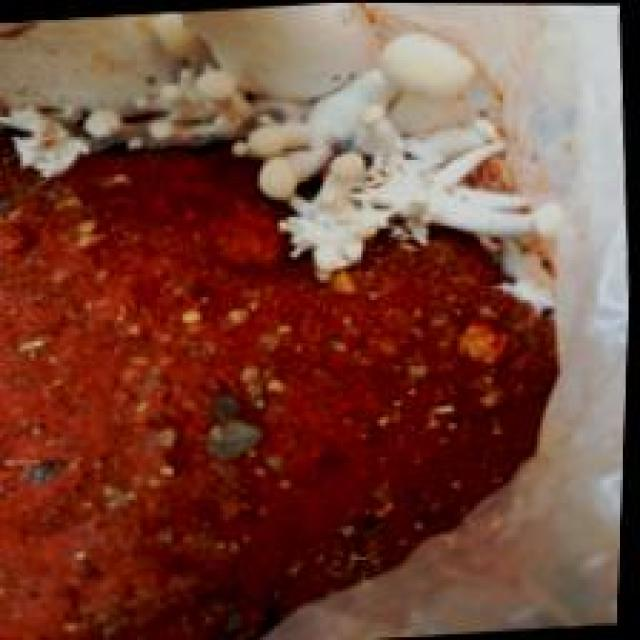chanterelle: (0, 3, 563, 637)
